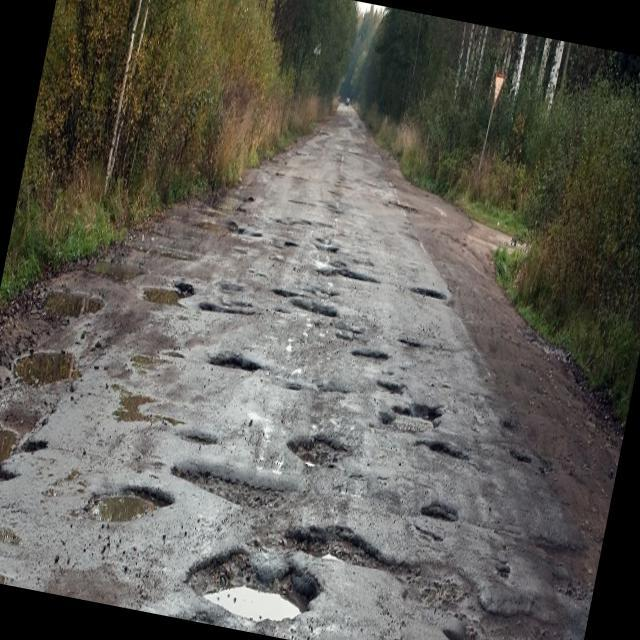Pothole: (182, 530, 328, 640), (168, 448, 301, 528), (282, 506, 406, 585), (396, 534, 488, 618), (79, 470, 174, 549), (457, 586, 590, 640), (284, 420, 350, 475), (144, 265, 194, 315), (209, 345, 261, 385), (390, 392, 444, 428), (418, 490, 462, 530), (289, 294, 345, 324), (328, 258, 378, 290), (198, 296, 245, 324), (352, 340, 390, 370), (410, 282, 452, 308), (182, 428, 222, 452), (490, 554, 520, 584), (267, 279, 299, 304), (377, 374, 409, 396), (282, 372, 304, 395), (280, 233, 300, 255)
